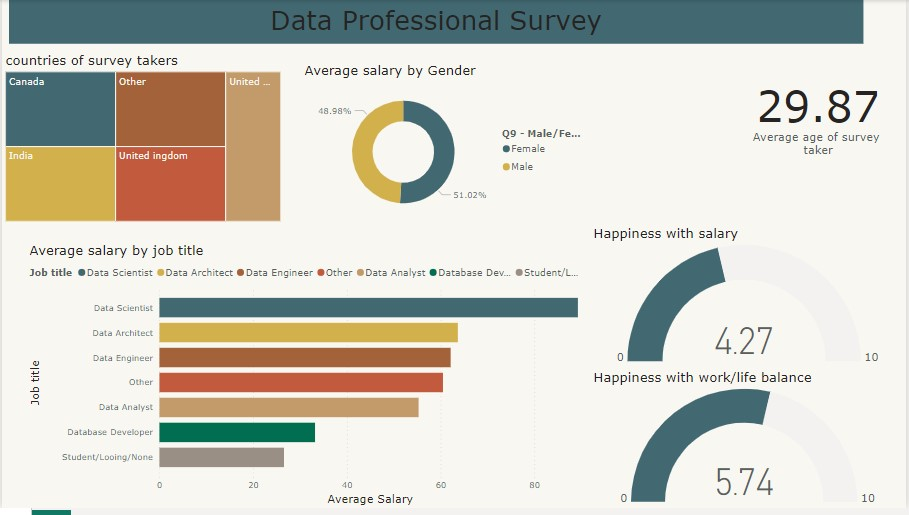

This screenshot's page, from the dashboard's own definition file:
{"tool":"powerbi","page":{"name":"Page 1","canvas":[1280,720],"ordinal":0},"visuals":[{"type":"textbox","box":[10.1,0,1211.1,62.2],"z":0},{"type":"card","fields":{"Values":["Avg(Data Professional Survey.Q10 - Current Age)"]},"box":[1033.1,62.2,246.9,188.1],"z":1},{"type":"barChart","title":"Average salary by job title","fields":{"Category":["Data Professional Survey.Q1 - Which Title Best Fits your Current Role?.1"],"Y":["Avg(Data Professional Survey.Average Salary)"],"Series":["Data Professional Survey.Q1 - Which Title Best Fits your Current Role?.1"]},"box":[33.6,342.7,799.6,378],"z":2},{"type":"treemap","title":"countries of survey takers","fields":{"Group":["Data Professional Survey.Q11 - Which Country do you live in?.1"],"Values":["Count(Data Professional Survey.Q11 - Which Country do you live in?.1)"]},"box":[0,73.9,399.8,245.2],"z":3},{"type":"gauge","title":"Happiness with work/life balance","fields":{"Y":["Avg(Data Professional Survey.Q6 - How Happy are you in your Current Position with the following? (Wor/Life Balance))"],"MinValue":["Min(Data Professional Survey.Q6 - How Happy are you in your Current Position with the following? (Wor/Life Balance))1"],"MaxValue":["Max(Data Professional Survey.Q6 - How Happy are you in your Current Position with the following? (Wor/Life Balance))2"]},"box":[833.2,522.4,446.8,198.2],"z":4},{"type":"gauge","title":"Happiness with salary","fields":{"Y":["Avg(Data Professional Survey.Q6 - How Happy are you in your Current Position with the following? (Salary))"],"MinValue":["Min(Data Professional Survey.Q6 - How Happy are you in your Current Position with the following? (Salary))"],"MaxValue":["Max(Data Professional Survey.Q6 - How Happy are you in your Current Position with the following? (Salary))"]},"box":[833.2,319.2,446.8,203.3],"z":5},{"type":"donutChart","title":"Average salary by Gender","fields":{"Category":["Data Professional Survey.Q9 - Male/Female?"],"Y":["Avg(Data Professional Survey.Average Salary)"]},"box":[423.3,87.3,409.9,231.8],"z":6}]}

Visuals, with their boxes in screenshot pixels (x1, y1, x2, y2), scaled from the page's 1280x720 canvas onto the 909x515 screenshot:
textbox: l=7, t=0, r=867, b=44
card - Avg(Data Professional Survey.Q10 - Current Age): l=734, t=44, r=908, b=179
"Average salary by job title" barChart: l=24, t=245, r=592, b=514
"countries of survey takers" treemap: l=0, t=53, r=284, b=228
"Happiness with work/life balance" gauge: l=592, t=374, r=908, b=514
"Happiness with salary" gauge: l=592, t=228, r=908, b=374
"Average salary by Gender" donutChart: l=301, t=62, r=592, b=228
